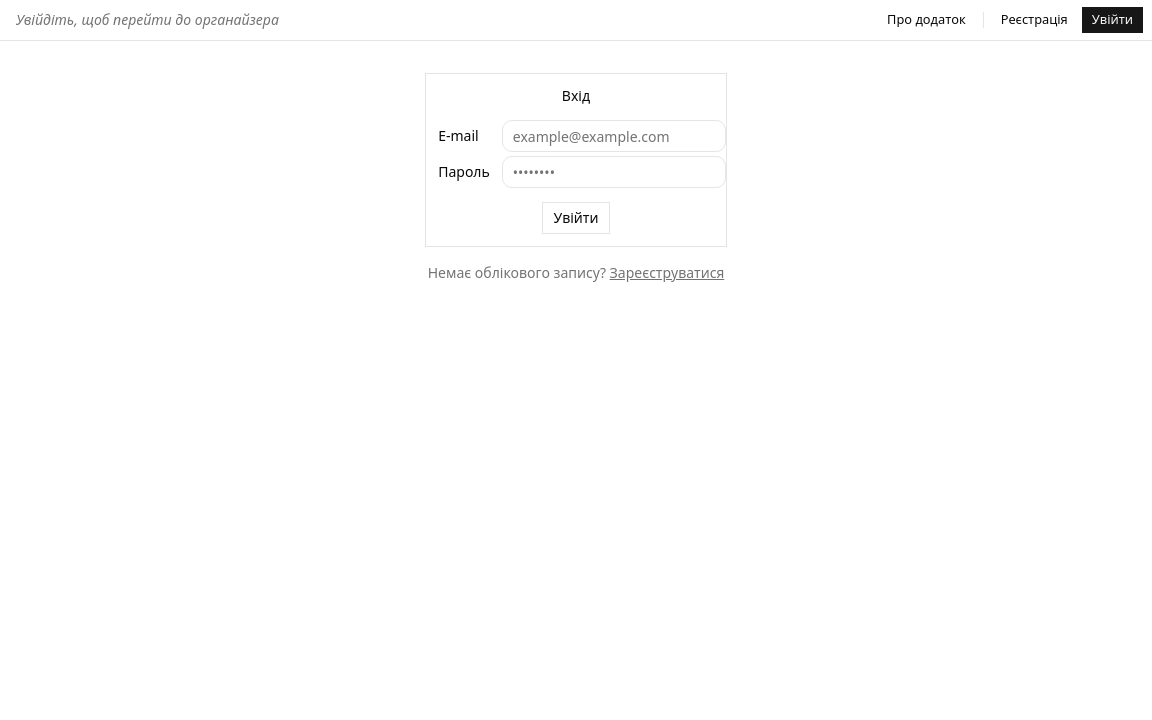
it: Authentication › logs out and redirects away from protected routes
Type "demo@example.com" into the field with id "login-email" at (614, 136), box [502,120,726,152]
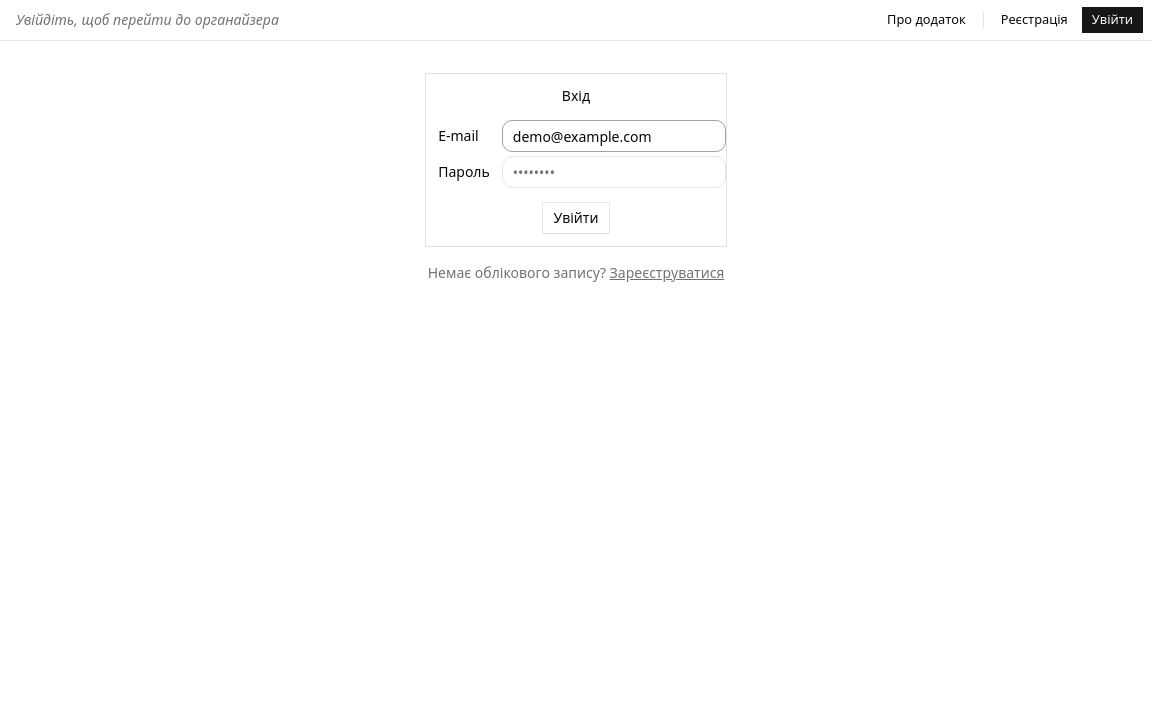
Type "demo" into the password field with id "login-password" at (614, 172), box [502,156,726,188]
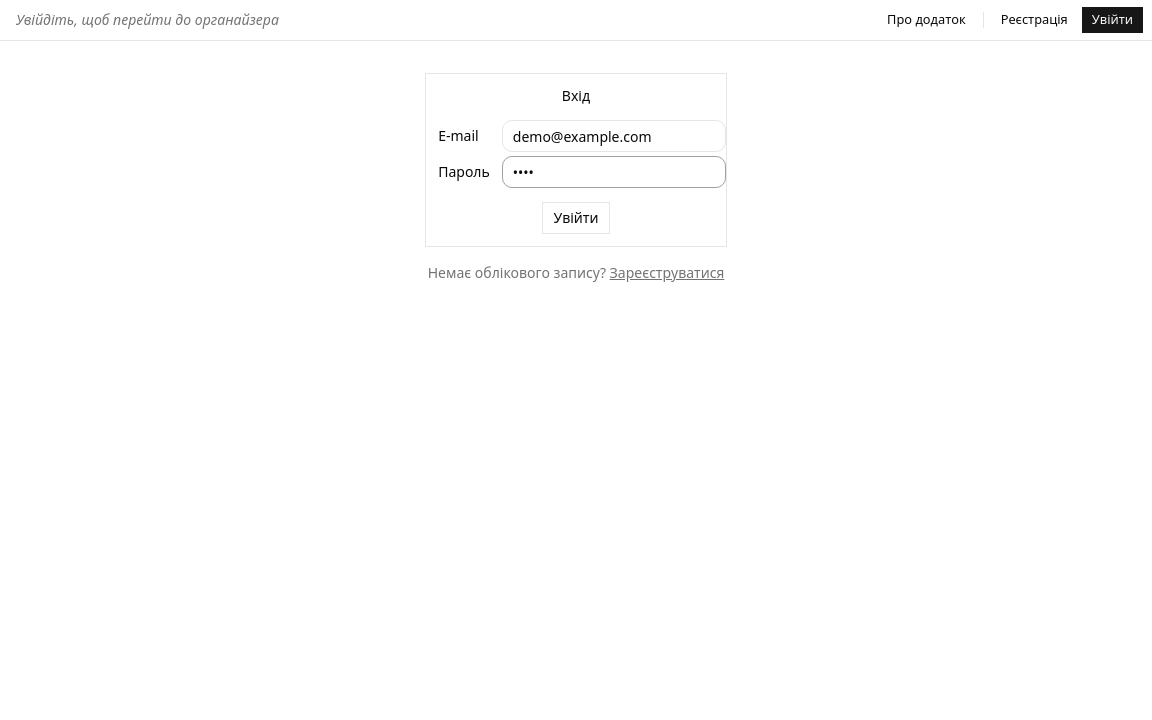
Click the button "Увійти" below "Пароль" at (576, 218), box [542,202,609,234]
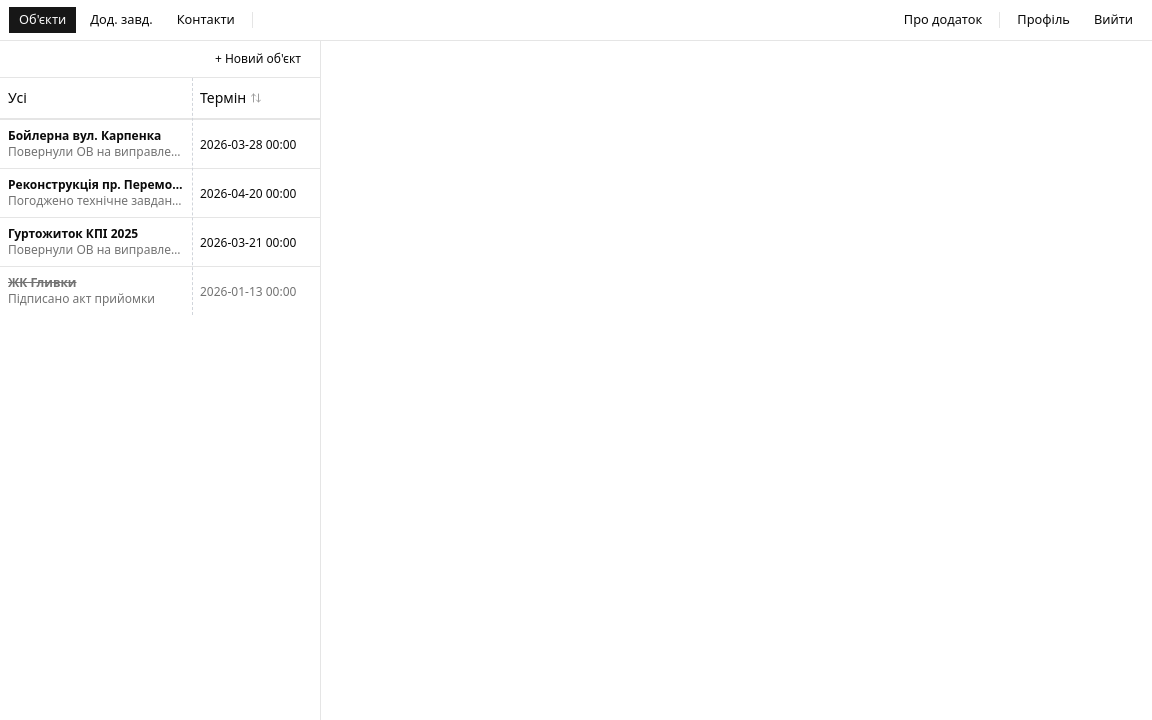
Click the button "Вийти" at (1114, 20), box [1083,6,1144,34]
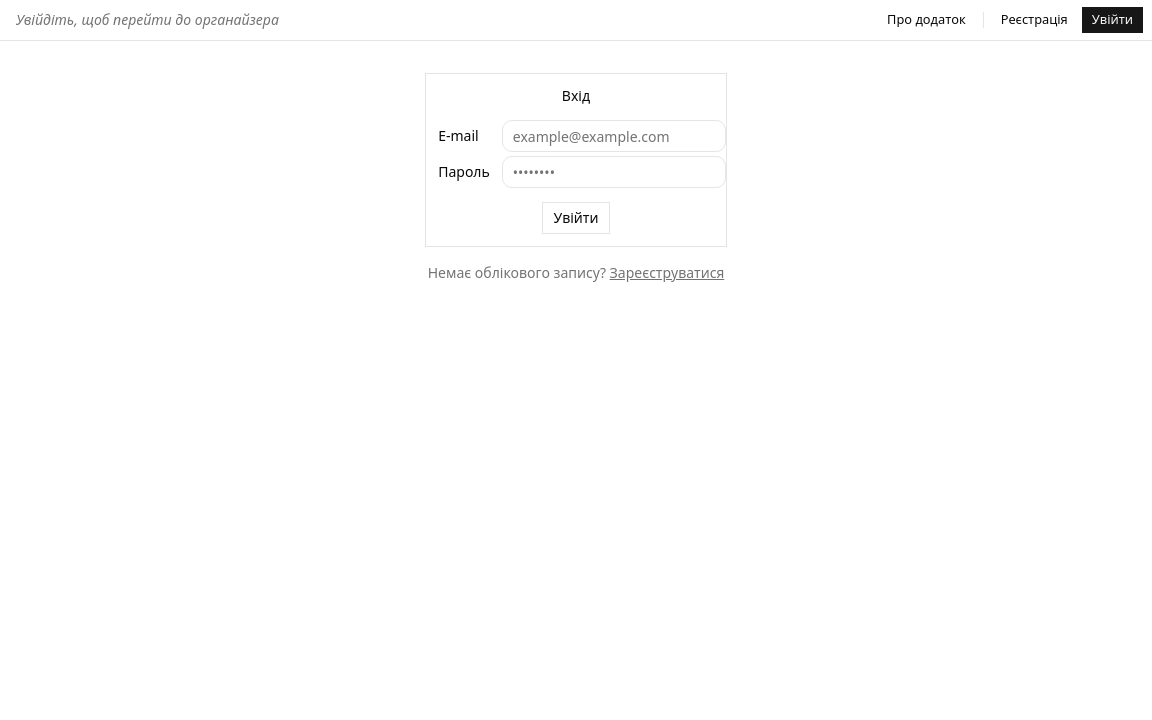
Now the button "Увійти" in the row of "Увійдіть, щоб перейти до органайзера" is shown, box [1081,6,1144,34]
